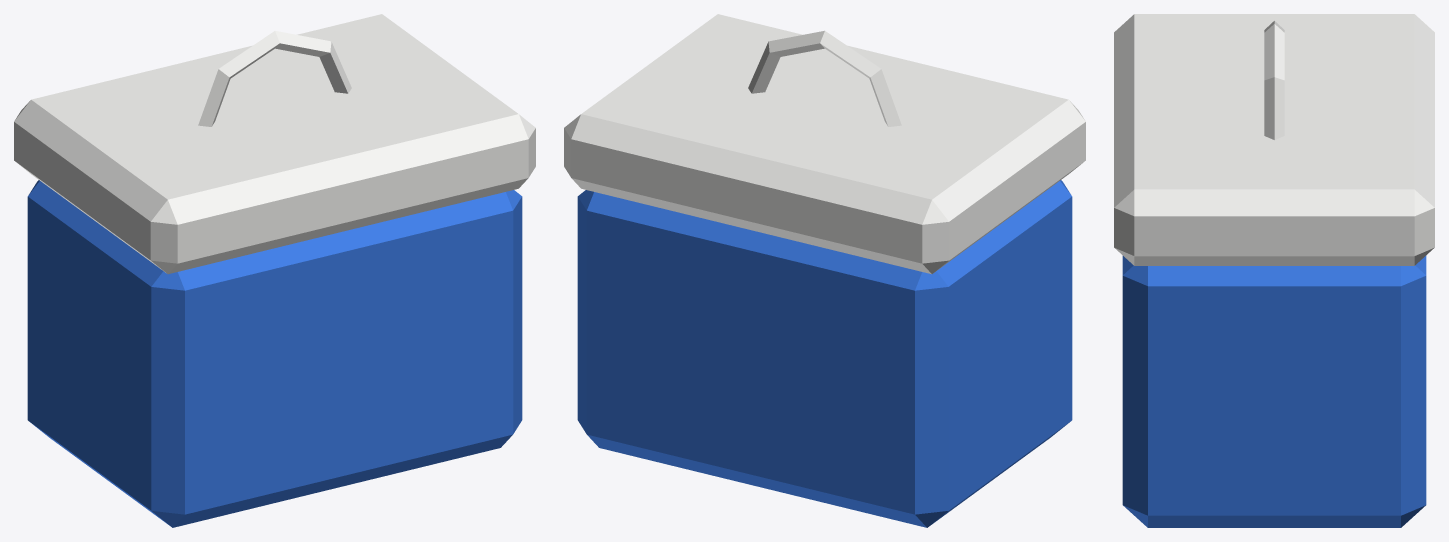
The model's file is BeachCooler.fbx.
3 renders of one model, left to right at view 1: azimuth 30°, elevation 25°; view 2: azimuth 150°, elevation 25°; view 3: azimuth 270°, elevation 25°, orthographic. The views are drawn at different scales.
Visible parts, largest first — view 1: BeachCooler; view 2: BeachCooler; view 3: BeachCooler.
Boxes of the visible parts, x1=… form: BeachCooler: x1=14, y1=14, x2=535, y2=527; BeachCooler: x1=564, y1=14, x2=1085, y2=527; BeachCooler: x1=1114, y1=14, x2=1434, y2=527.
Bounding box in the file's own units: 2.7 × 2.76 × 1.9.
1 material, 1 textured.
